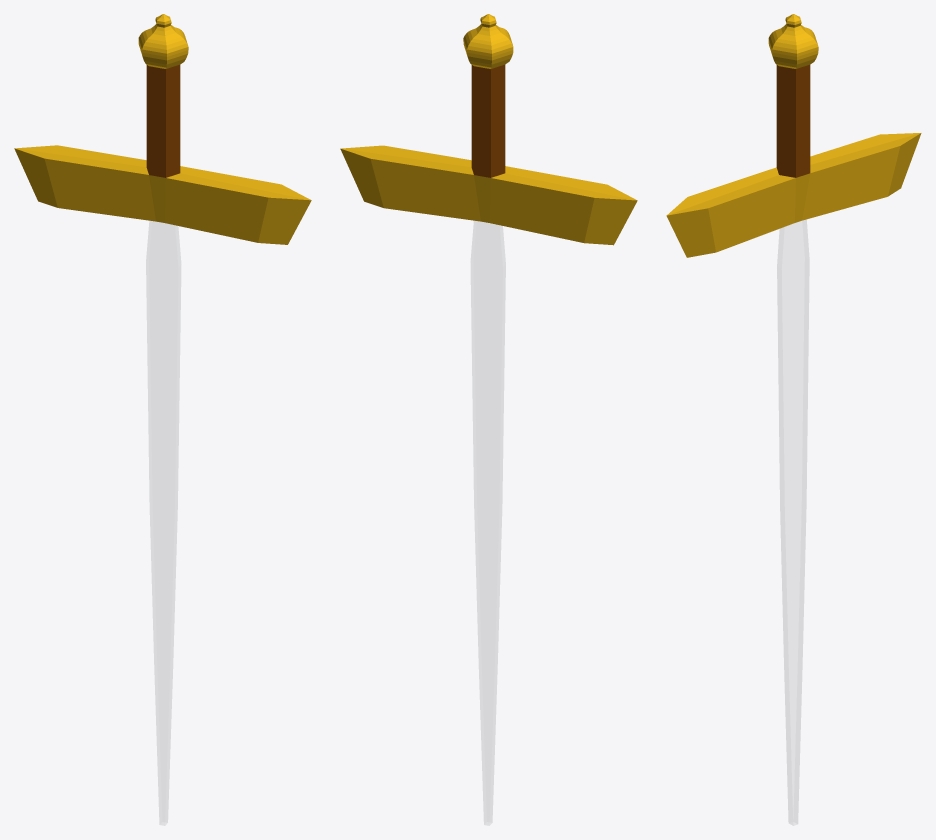
The model's file is EspadaPequeñaVirtud.fbx.
3 renders of one model, left to right at view 1: azimuth 30°, elevation 25°; view 2: azimuth 210°, elevation 25°; view 3: azimuth 270°, elevation 25°, orthographic.
Visible parts, largest first — view 1: Cube.007; view 2: Cube.007; view 3: Cube.007.
Part boxes in pixels (x1,y1,x2,y2): Cube.007: (14,14,311,825); Cube.007: (340,14,637,825); Cube.007: (666,14,921,825).
Size of the model in its own units: 30.46 by 139 by 39.62.
